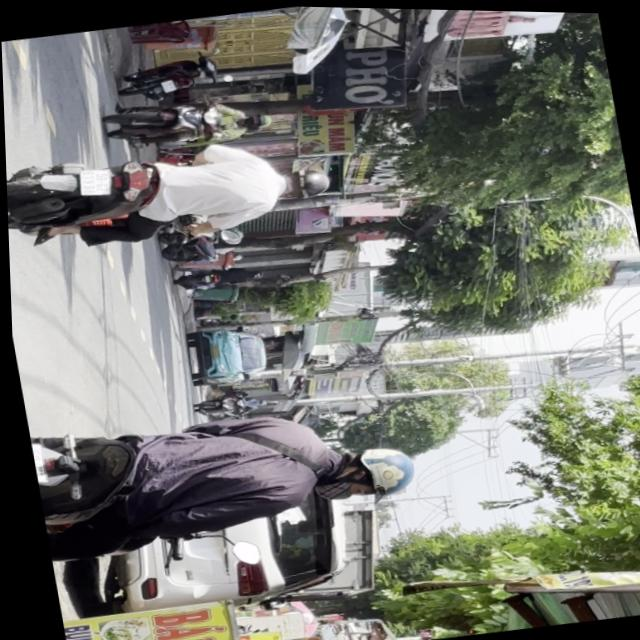helmet: (317, 440, 416, 504), (277, 163, 332, 201), (242, 110, 272, 129)
licenseplate: (27, 378, 431, 580), (4, 121, 341, 267), (98, 85, 275, 157)
nohelmet: (76, 166, 111, 197)
